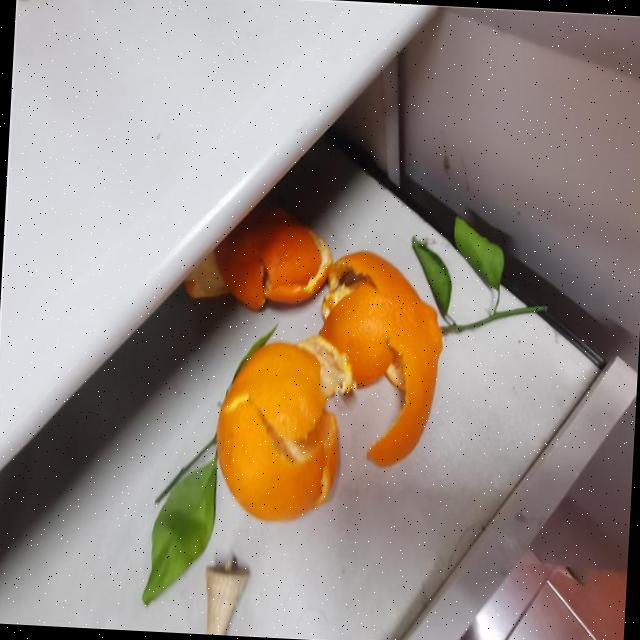orange-peel: (177, 202, 450, 531), (310, 247, 448, 470), (210, 336, 346, 525), (212, 208, 334, 314)
